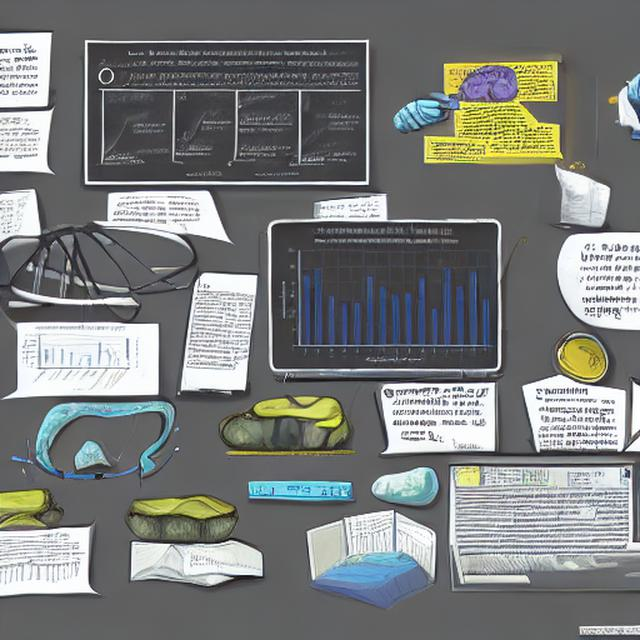Graph: (276, 234, 498, 369), (21, 325, 134, 393)
